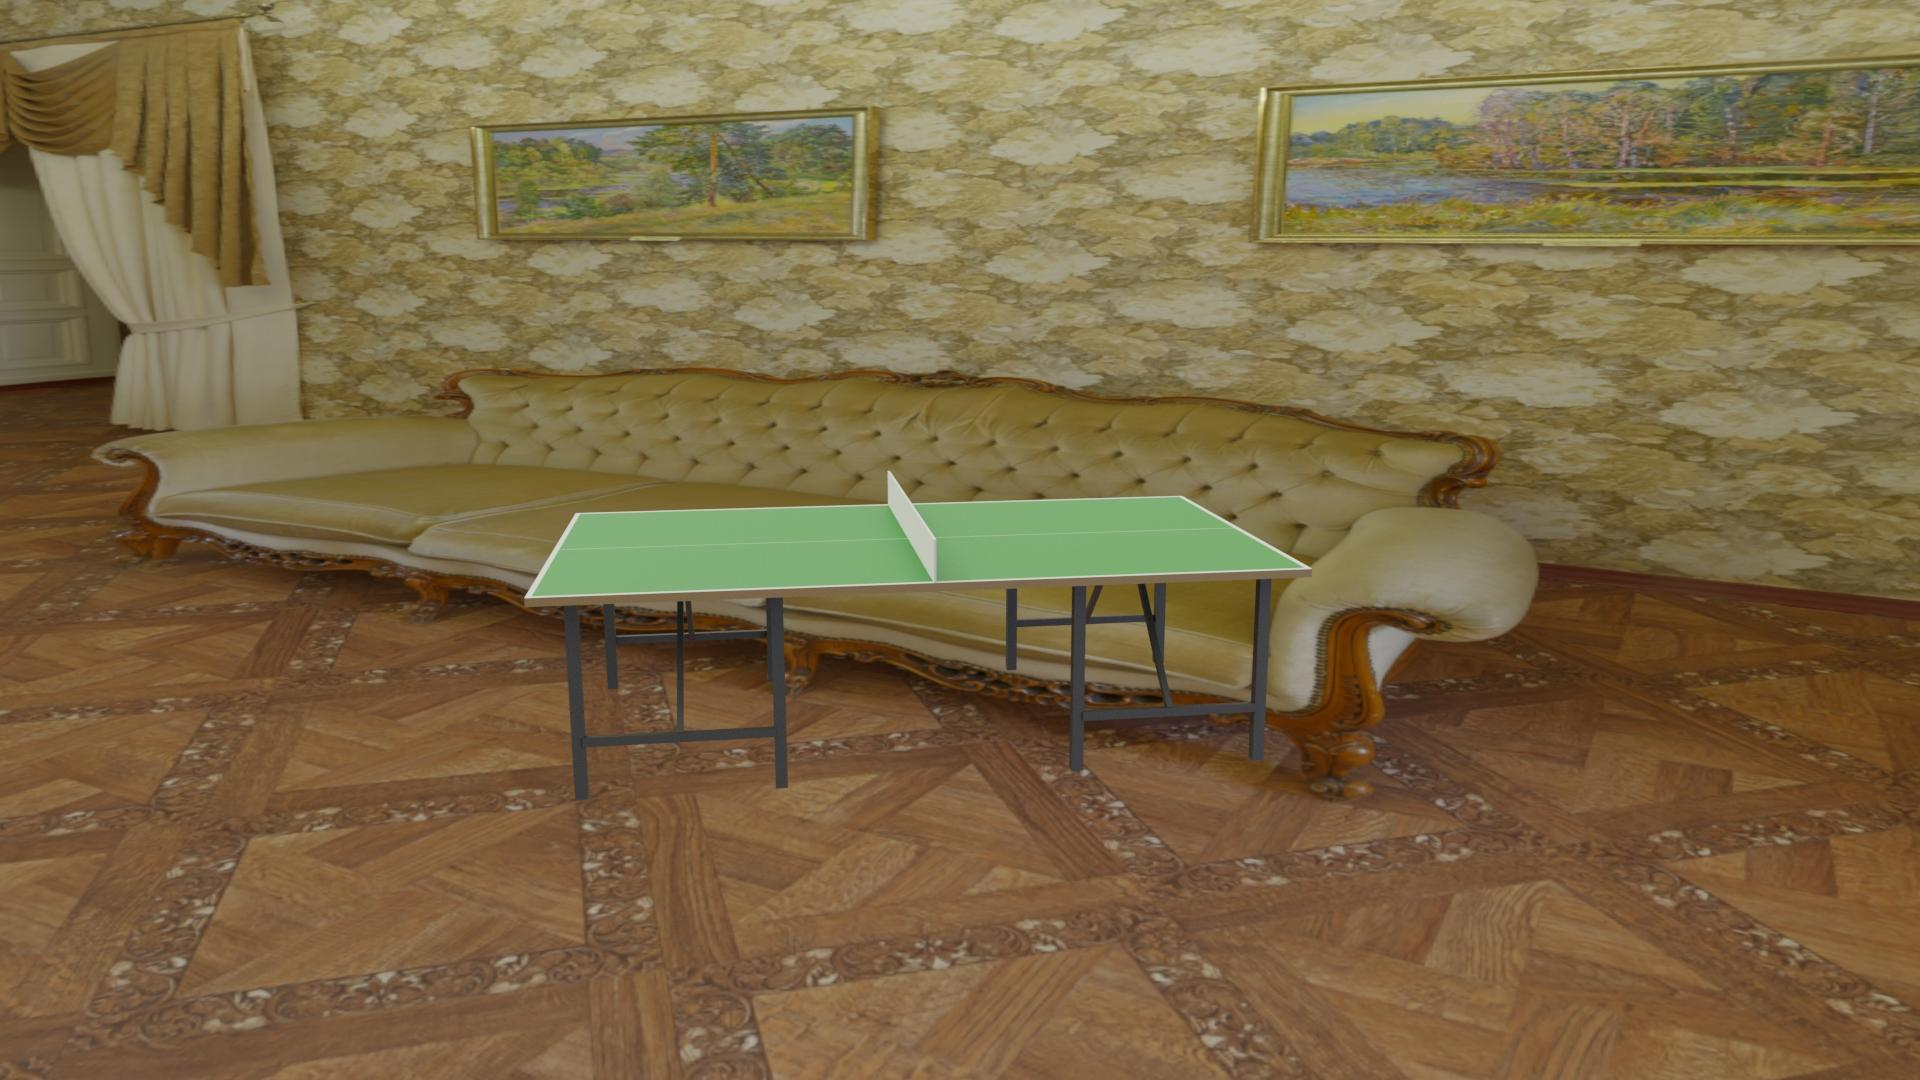table: (531, 497, 1305, 596)
